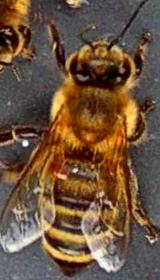varroa_mite: (41, 145, 81, 194)
